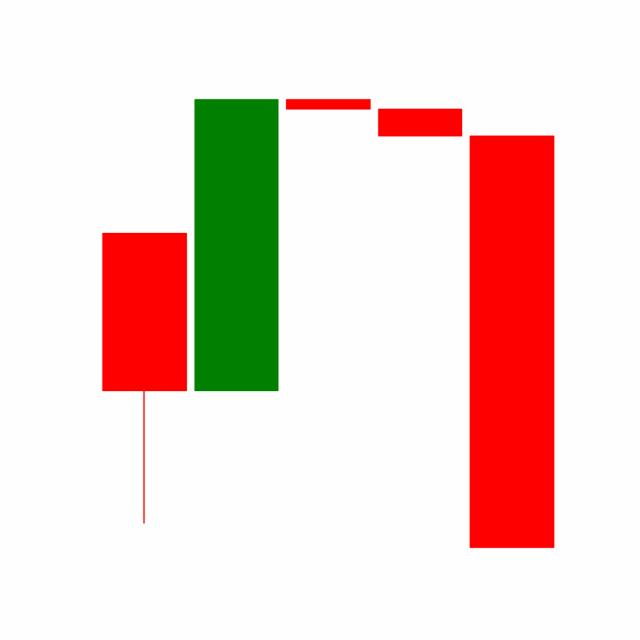Marubozu: (464, 130, 558, 552)
